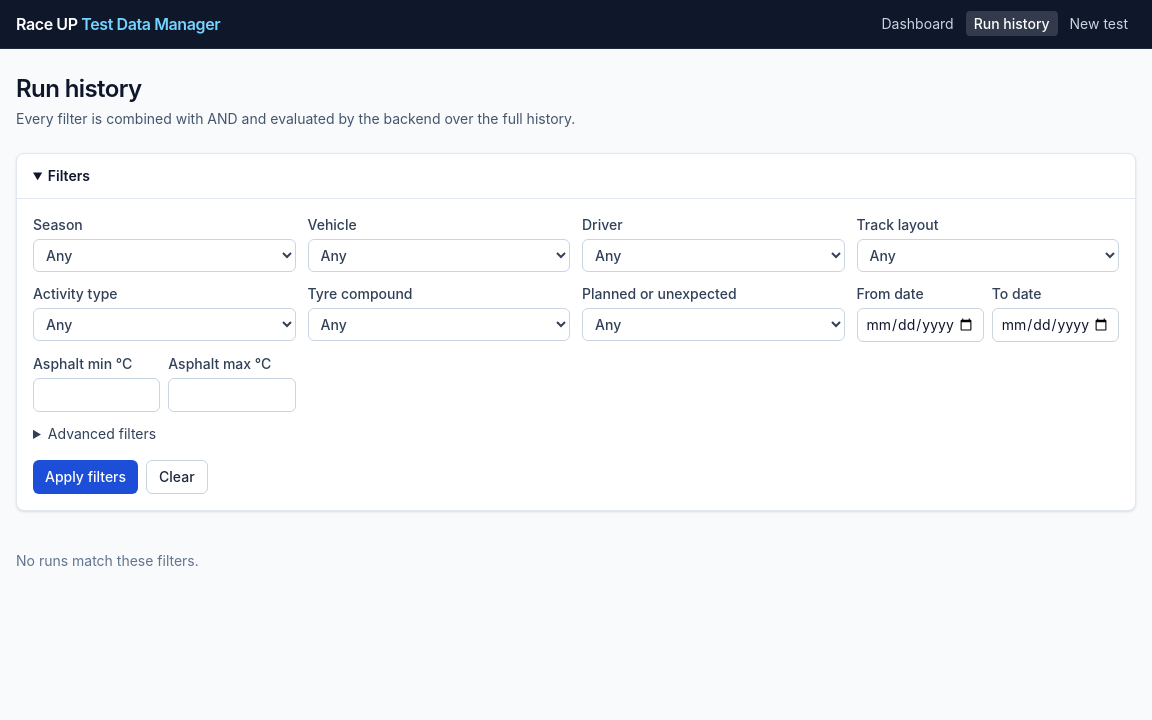
Test: historical run browser › validates inverted ranges and precision before sending
This screenshot has width=1152, height=720.
Check: the text "No runs match these filters." is shown, box [16,552,199,569]
In the field labelled "Asphalt min °C": (97, 395) [33,378,160,412], type "40"
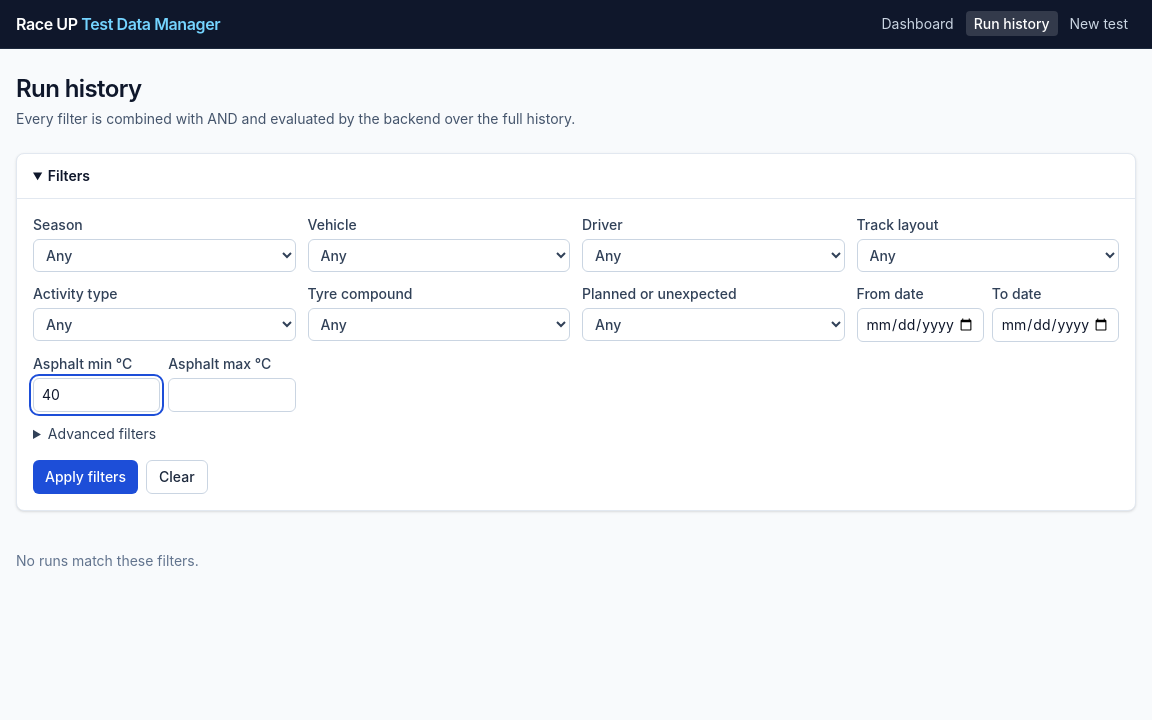
In the field labelled "Asphalt max °C": (232, 395) [168,378,296,412], type "30"
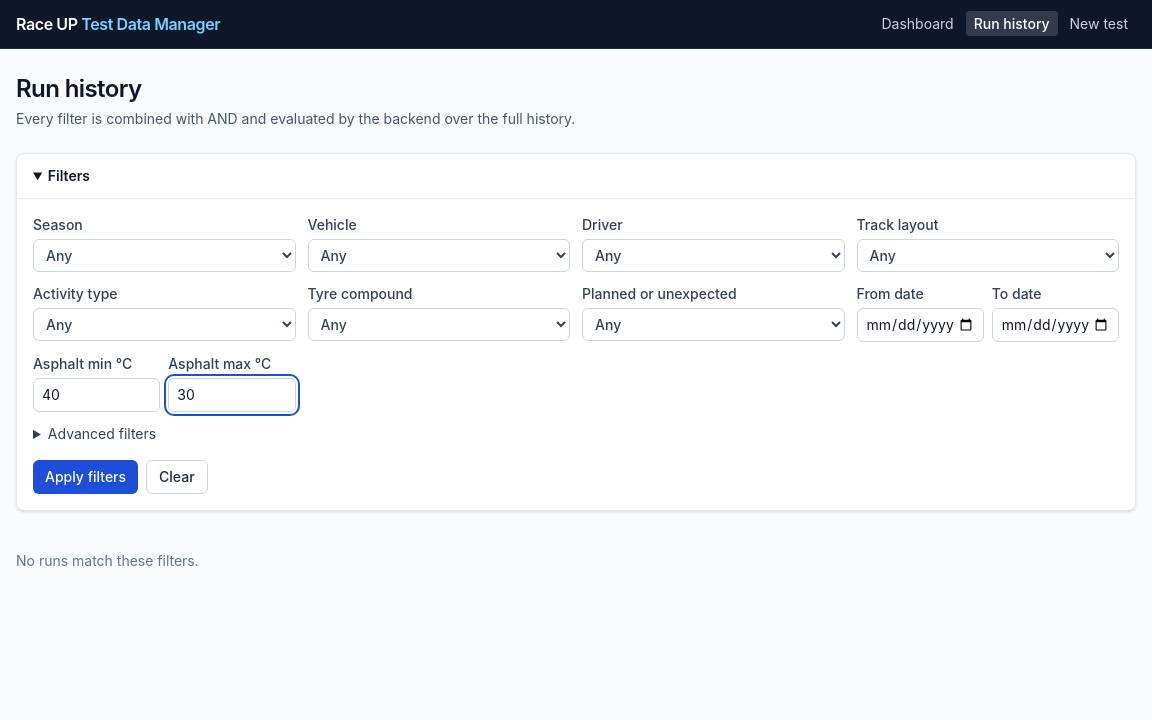
Click the button "Apply filters": (86, 477) [33,460,138,494]
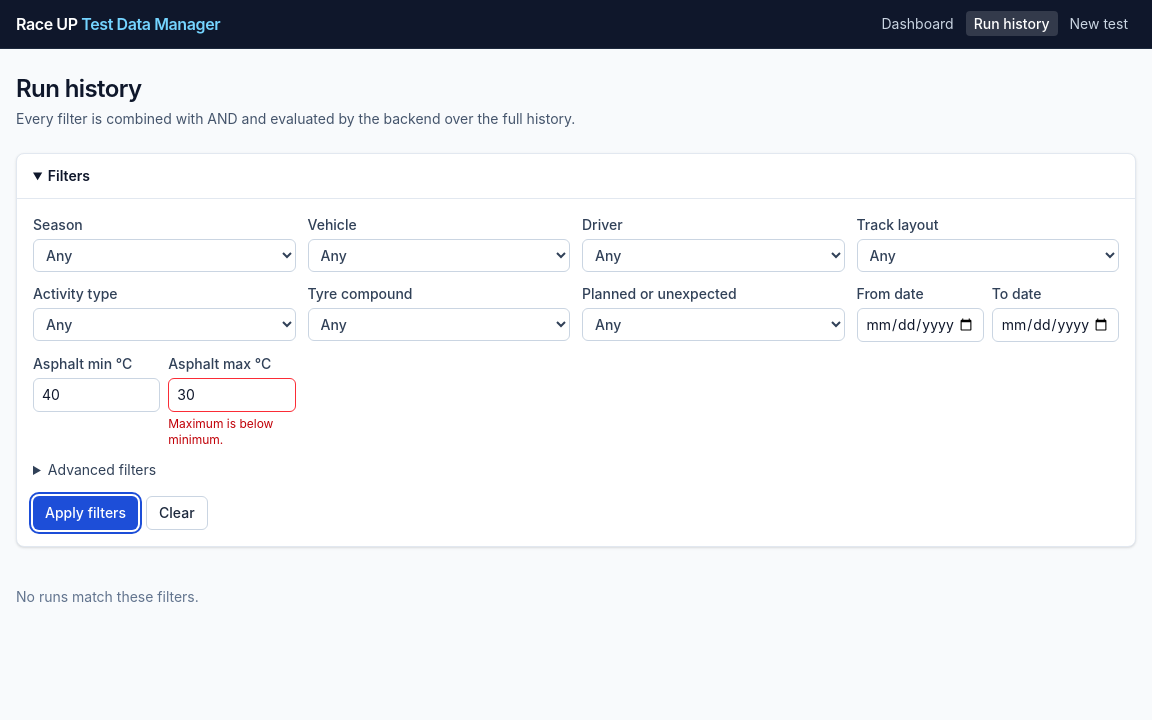
Check: the text "Maximum is below minimum." is shown, box [168,416,274,447]
